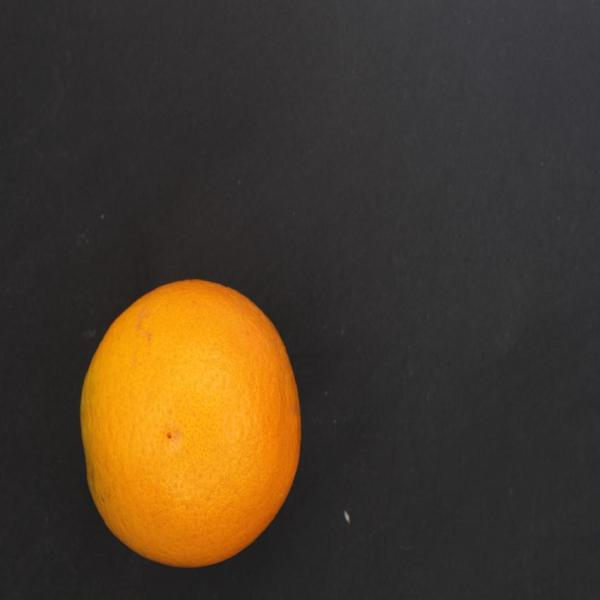Sana: (76, 270, 313, 567)
